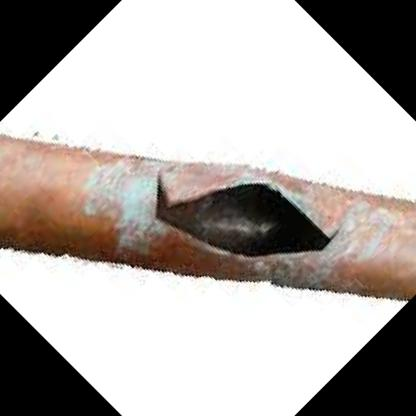burst: (149, 168, 339, 265)
